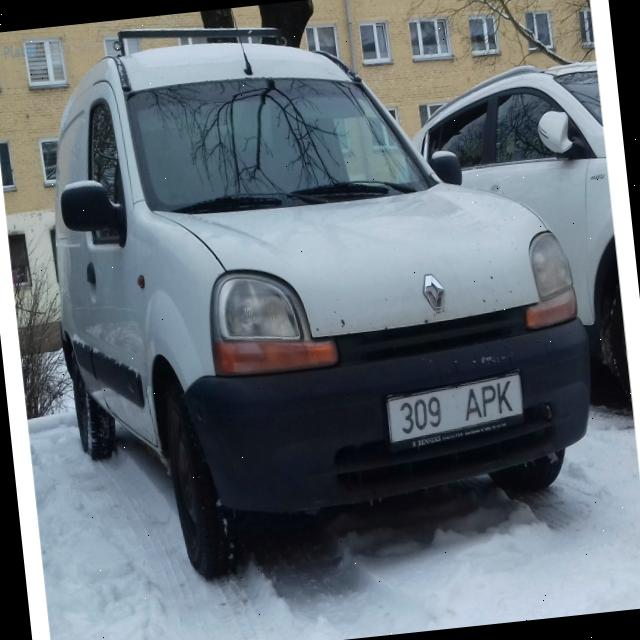License-plate: (383, 372, 528, 456)
